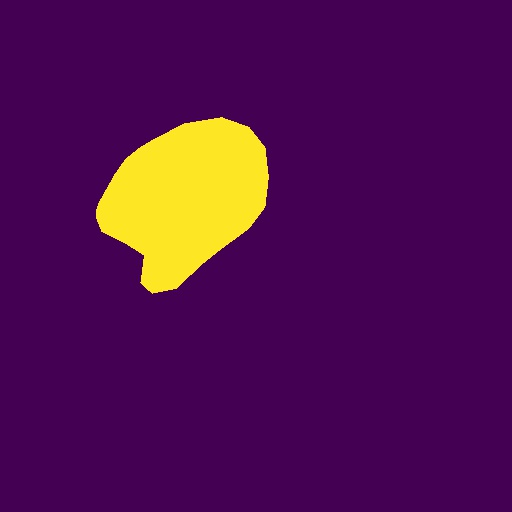Gliomia_tumour: (96, 117, 269, 294)
